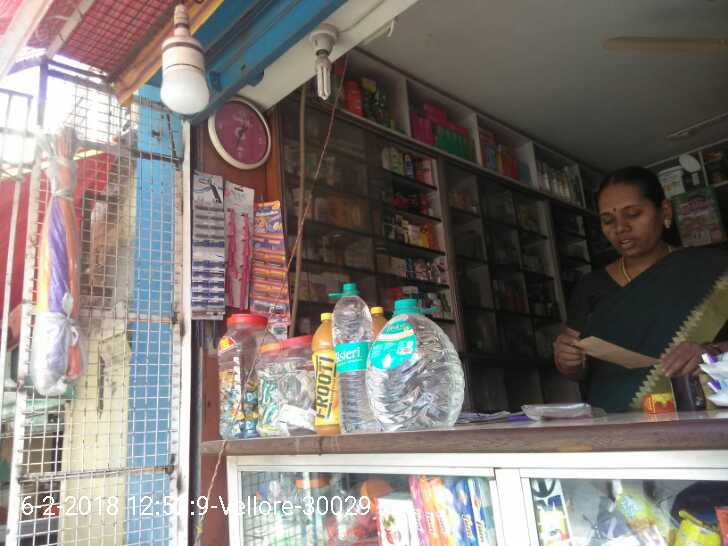reject: (307, 177, 399, 236)
